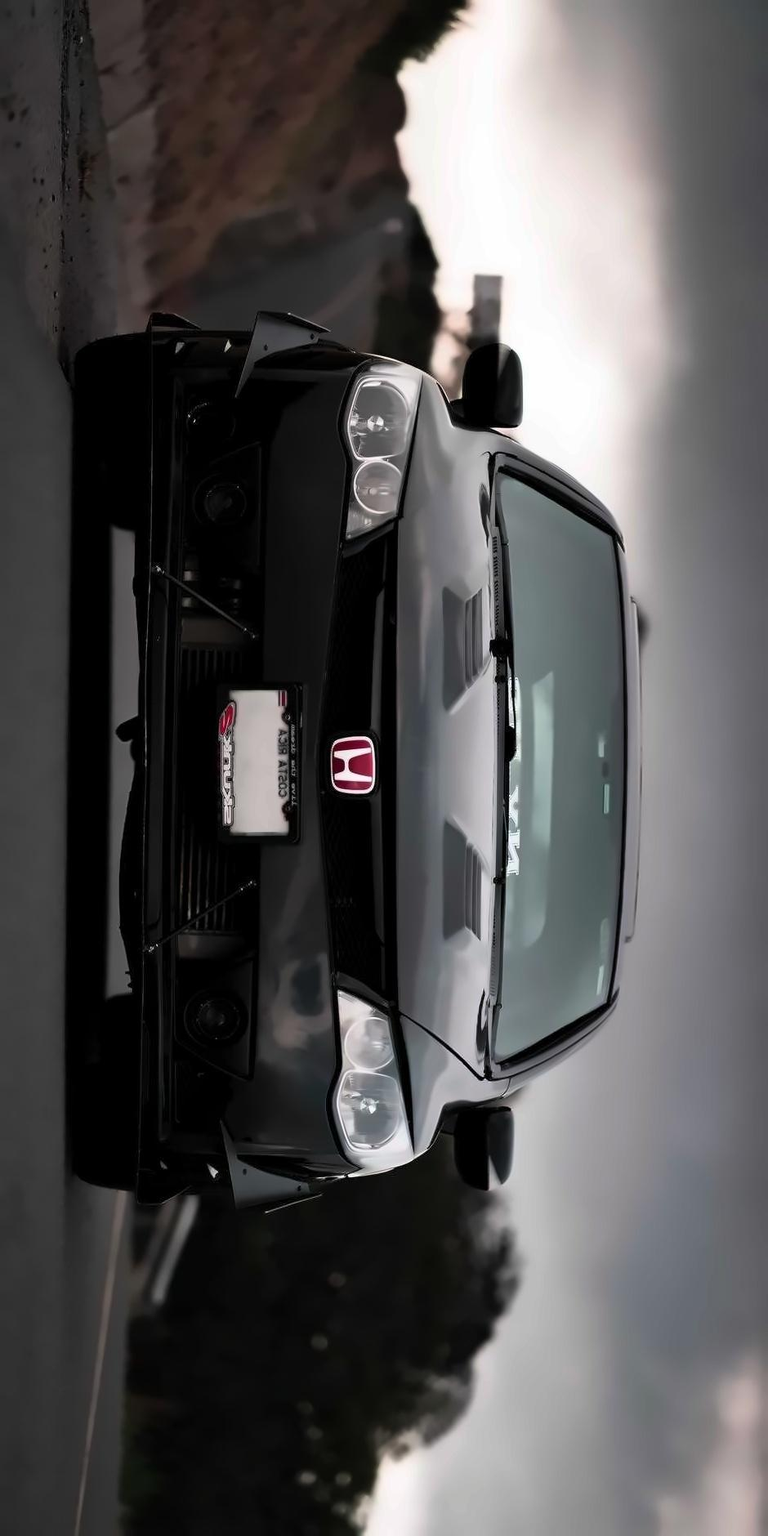Car hood: (373, 363, 505, 1164)
Front bumper: (136, 292, 345, 1188)
Headlight - -L-: (333, 992, 410, 1174)
Headlight - -R-: (338, 357, 432, 569)
Side mirror - -L-: (433, 1101, 522, 1193)
Side mirror - -R-: (447, 335, 529, 440)
